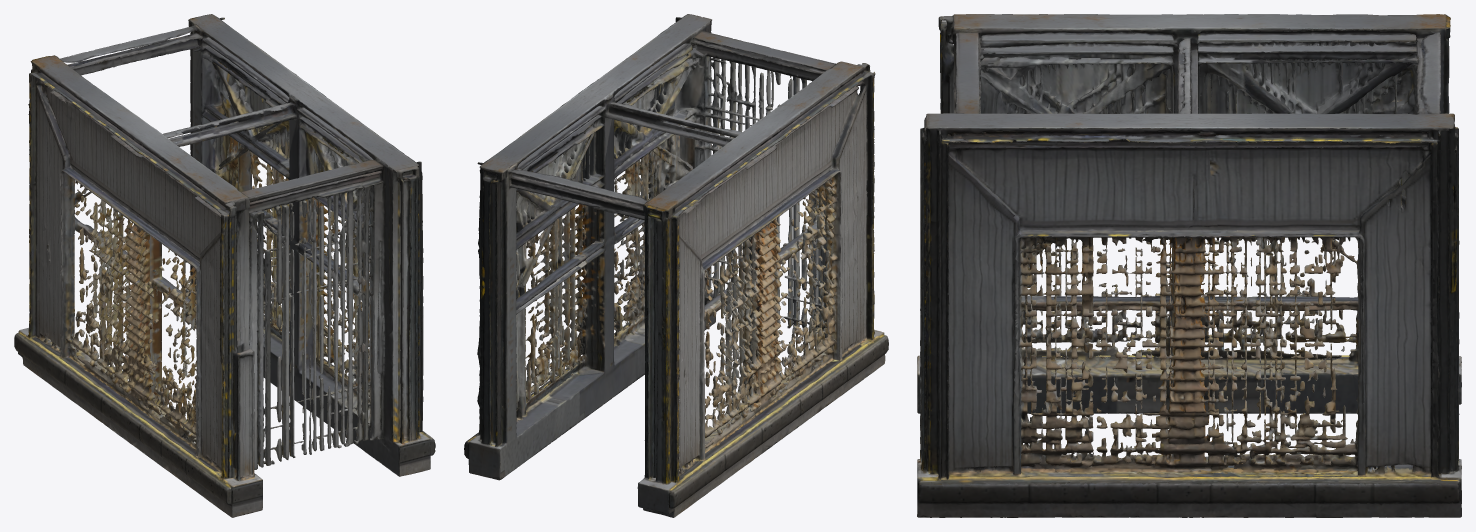
File: Env_LoadingShutterWall.fbx
The picture shows the model from 3 angles, left to right: view 1: azimuth 30°, elevation 25°; view 2: azimuth 150°, elevation 25°; view 3: azimuth 270°, elevation 25°; orthographic projection. The views are drawn at different scales.
Parts seen in each view (by area): view 1: Env_LoadingShutterWall; view 2: Env_LoadingShutterWall; view 3: Env_LoadingShutterWall.
Part boxes in pixels (x1,y1,x2,y2): Env_LoadingShutterWall: [14, 14, 435, 517]; Env_LoadingShutterWall: [464, 14, 888, 517]; Env_LoadingShutterWall: [917, 14, 1461, 517].
Bounding box in the file's own units: 55.53 × 77.03 × 98.64.
